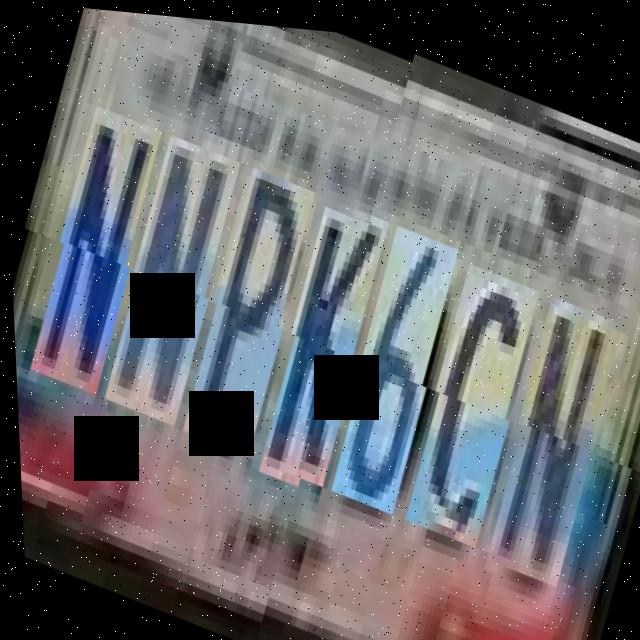6: (314, 221, 468, 522)
C: (388, 258, 547, 552)
K: (245, 195, 398, 495)
N: (469, 288, 631, 593), (90, 127, 252, 431), (16, 99, 174, 402)
P: (168, 157, 326, 459)
